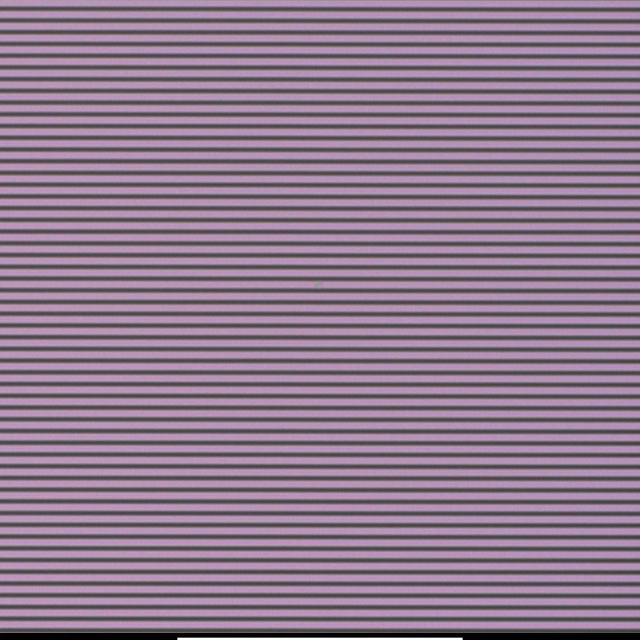nonvisual: (313, 277, 328, 293)
